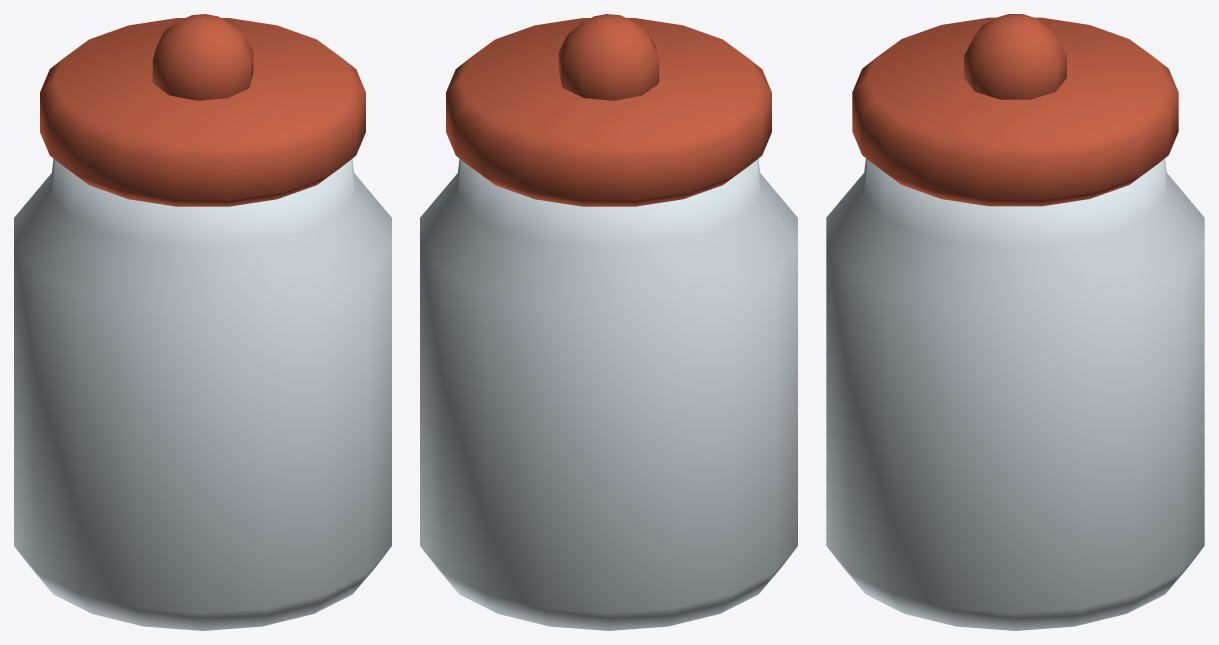
File: cookieJar.glb
3 renders of one model, left to right at view 1: azimuth 30°, elevation 25°; view 2: azimuth 150°, elevation 25°; view 3: azimuth 270°, elevation 25°, orthographic.
Parts seen in each view (by area): view 1: cookieJar; view 2: cookieJar; view 3: cookieJar.
Boxes of the visible parts, box(x1,y1,x2,y2) form: cookieJar: box(14, 14, 391, 630); cookieJar: box(420, 14, 797, 630); cookieJar: box(826, 14, 1204, 630).
Size of the model in its own units: 0.16 by 0.248 by 0.1576.
